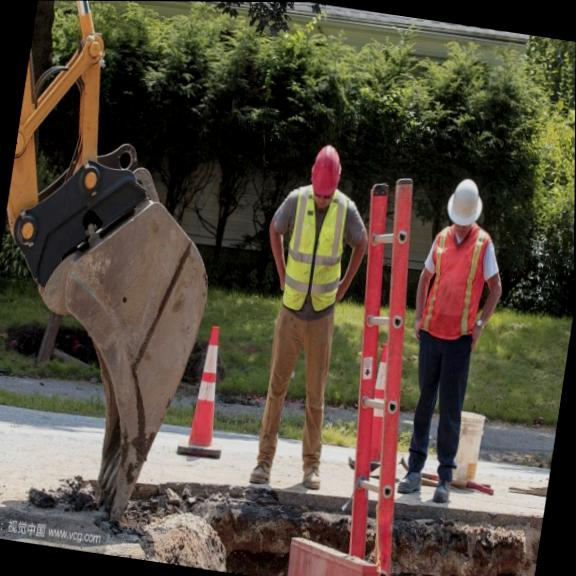safety_vest: (271, 184, 353, 325), (423, 228, 488, 350)
